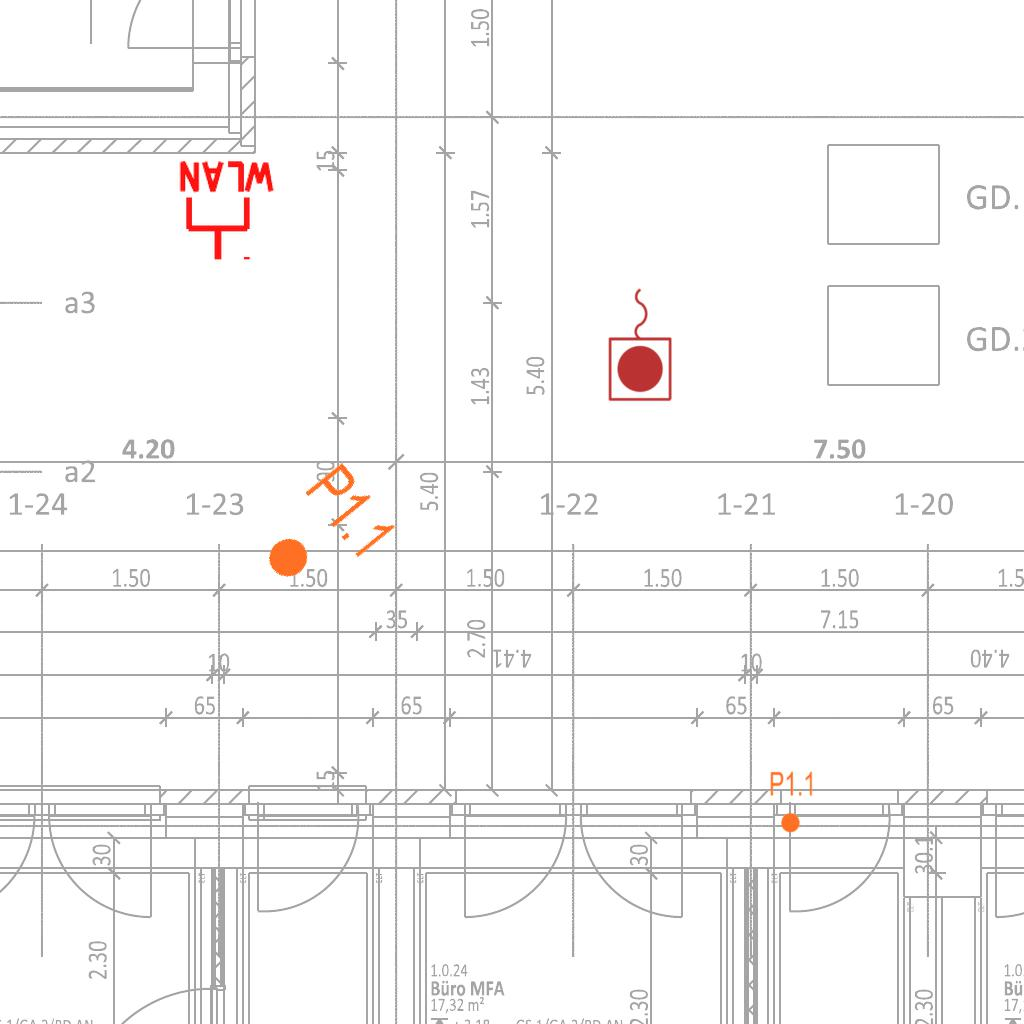Downlight_LED_Einbauleuchten_Flur: (243, 457, 402, 611), (769, 770, 815, 834)
WLAN: (175, 159, 279, 264)
Zugtaster: (605, 283, 677, 405)
